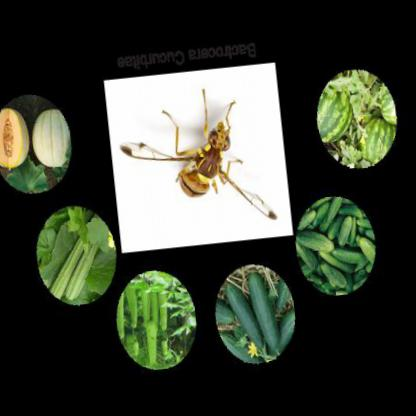fruit fly: (117, 90, 277, 219)
